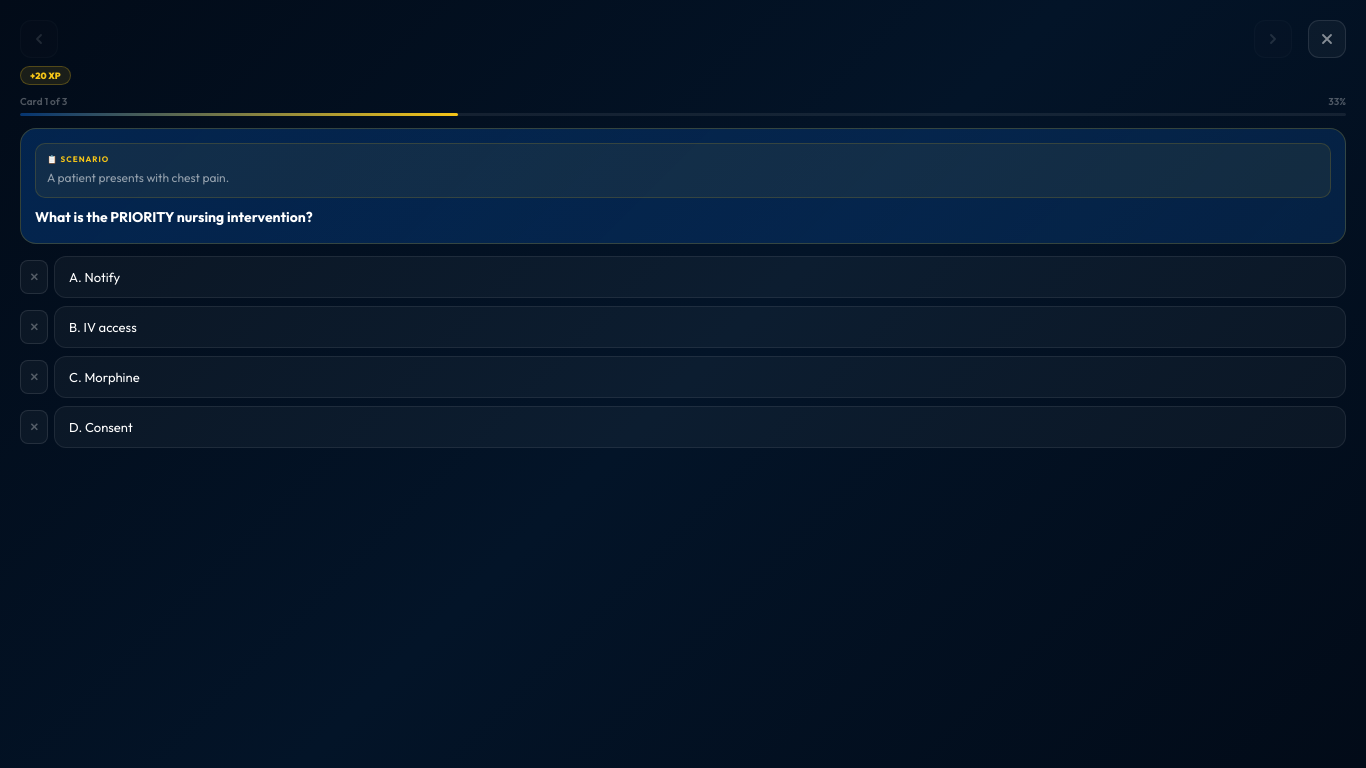
Scenario: CardScreen › clicking exit button opens exit modal
What coordinates should you click on to do the following:
click the button named "Exit session"
I would click on:
 (1327, 39)
Its box is [1308,20,1346,58].
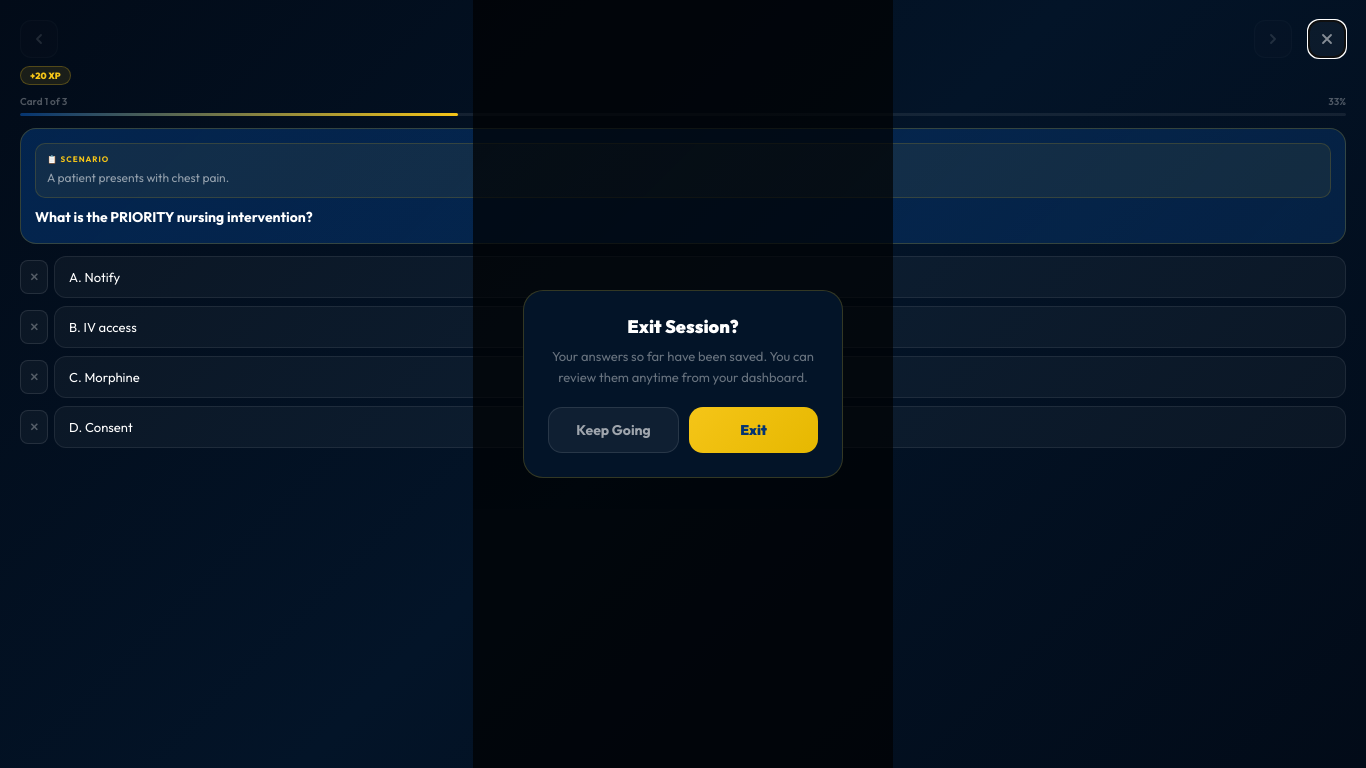
Expected: the text "Exit Session?" is shown, [627,315,739,338]
Expected: the button "Keep Going" is shown, [548,407,679,453]
